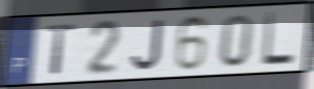0: (218, 13, 255, 69)
2: (87, 18, 122, 77)
6: (173, 14, 211, 73)
J: (130, 18, 165, 72)
L: (260, 10, 296, 68)
T: (43, 22, 77, 76)
